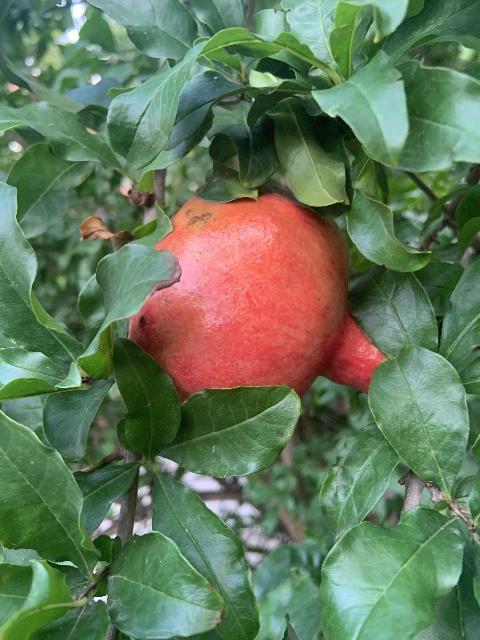ripe: (129, 191, 386, 406)
